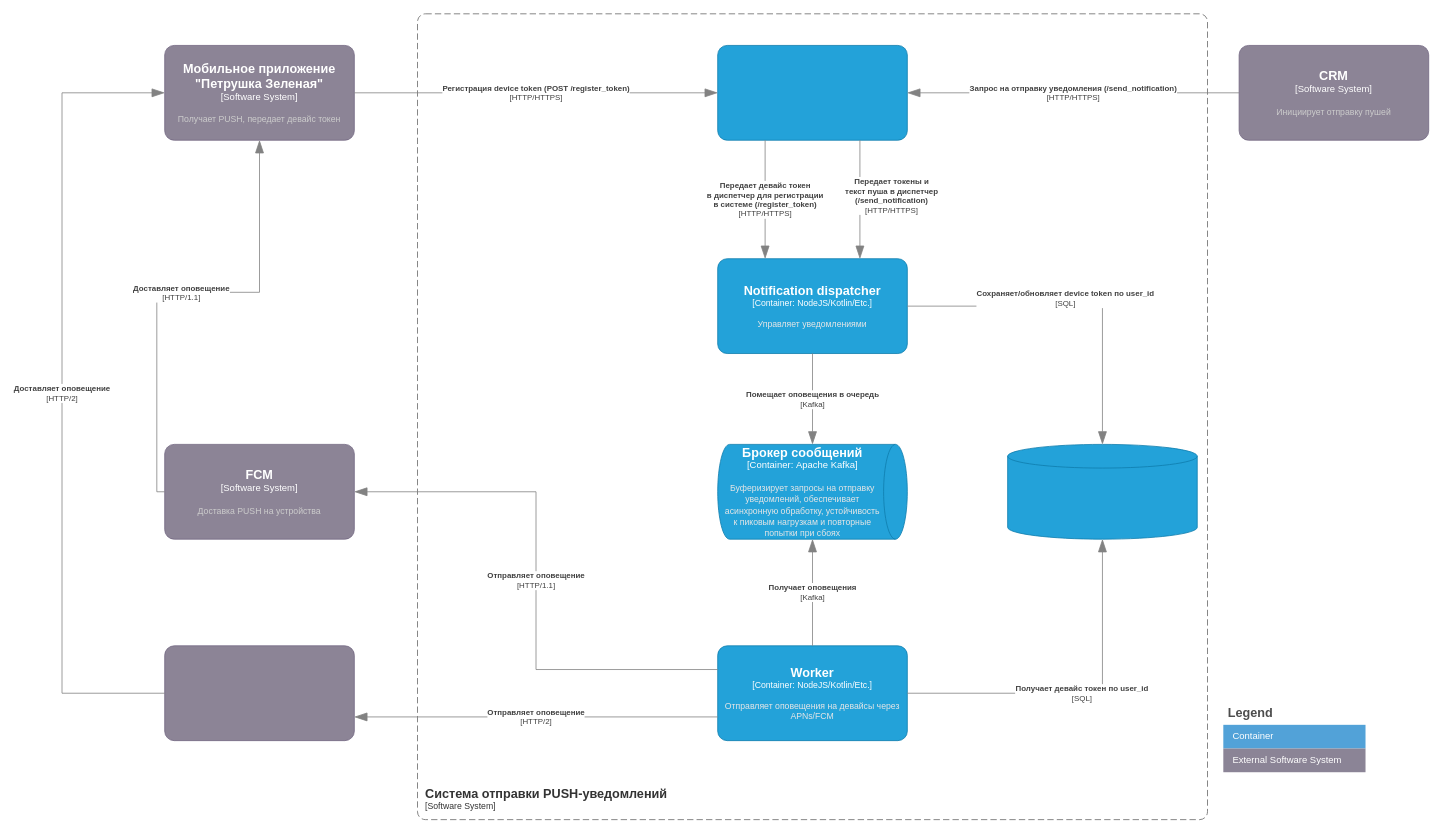
This 1443x833 diagram has some shape labels left out. The box of each missing label's shape, as (x1, y1, x2, y2) in pixels:
Api gateway [Container: Nginx] Управление внешним трафиком: (717, 45, 907, 140)
APNs [Software System] Доставка PUSH на устройства: (164, 645, 354, 741)
Database [Container: PostgreSQL] Хранит девайс токены, историчные данные, etc.: (1007, 444, 1197, 539)
